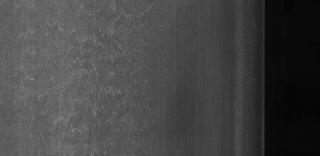silk spot: (11, 82, 145, 148), (18, 43, 128, 91), (81, 7, 157, 49), (23, 14, 88, 44)
